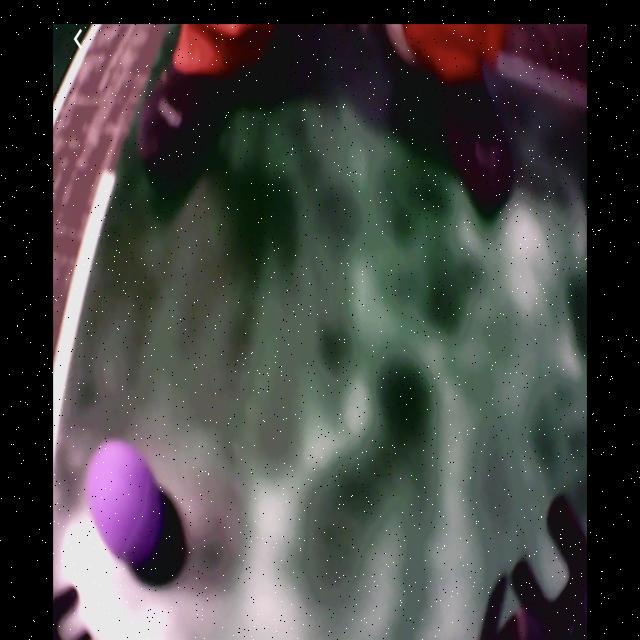ball: (86, 441, 162, 563)
